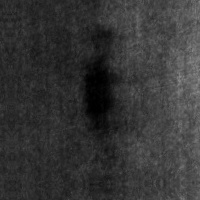patches: (82, 57, 115, 127)
